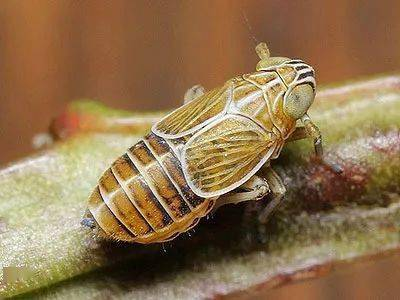Delphacidae: (79, 40, 344, 253)
